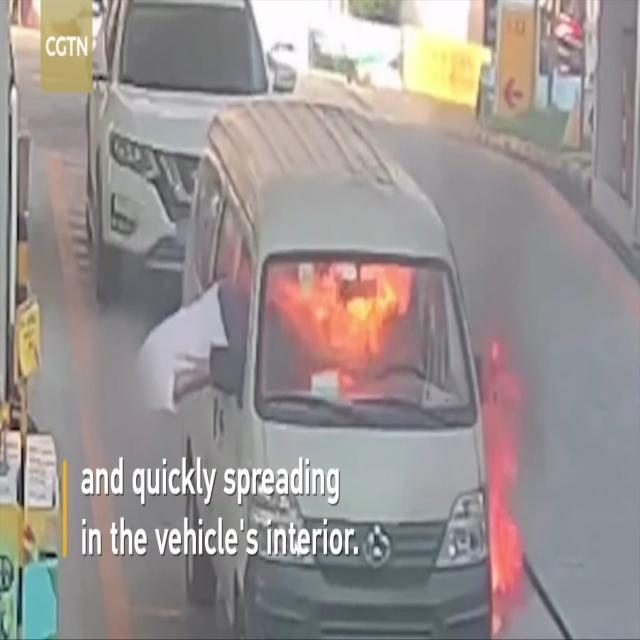fire: (272, 264, 422, 398), (481, 341, 523, 630)
